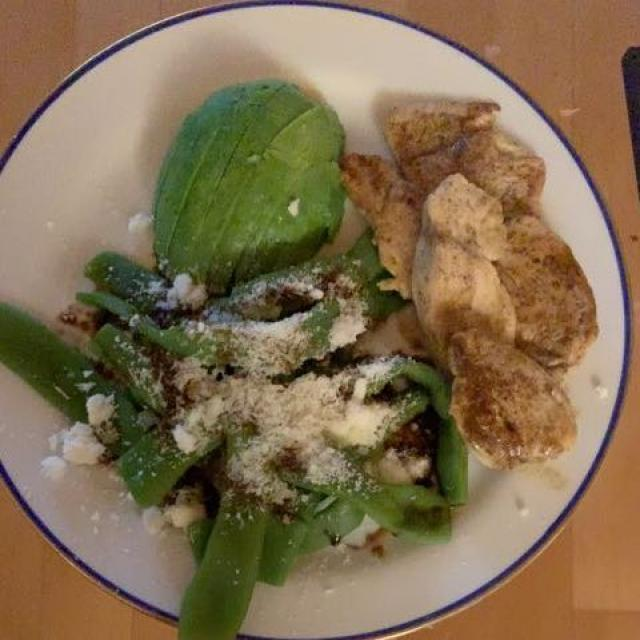avocado: (148, 76, 369, 285)
cheese: (33, 267, 425, 543)
chicken-breast: (359, 91, 593, 477)
